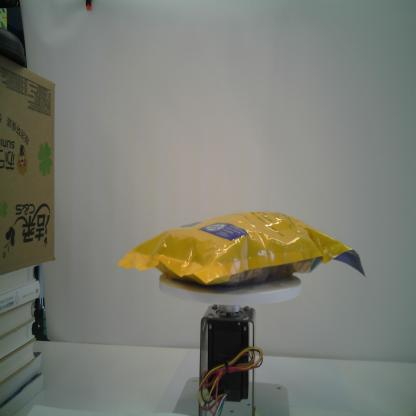Dried Food: (113, 210, 367, 286)
